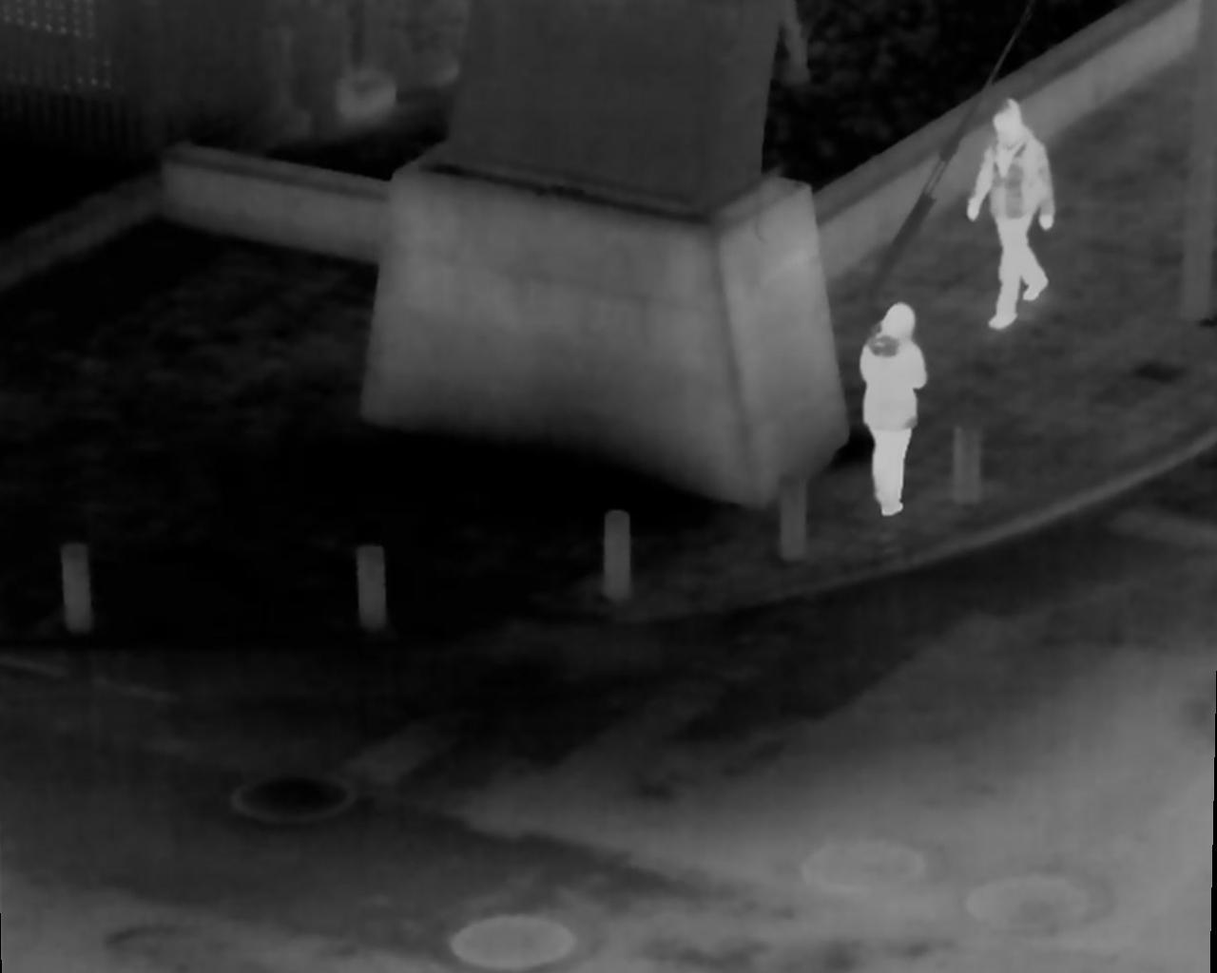person: (967, 86, 1045, 334), (853, 296, 935, 505)
